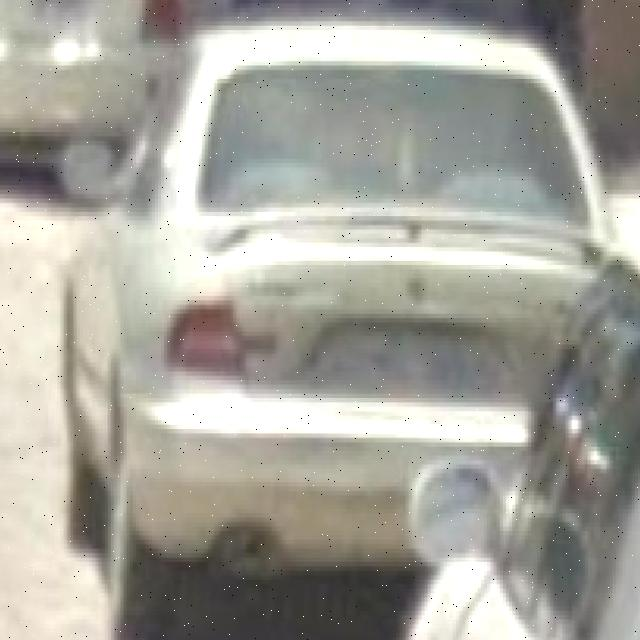car: (49, 18, 601, 640)
